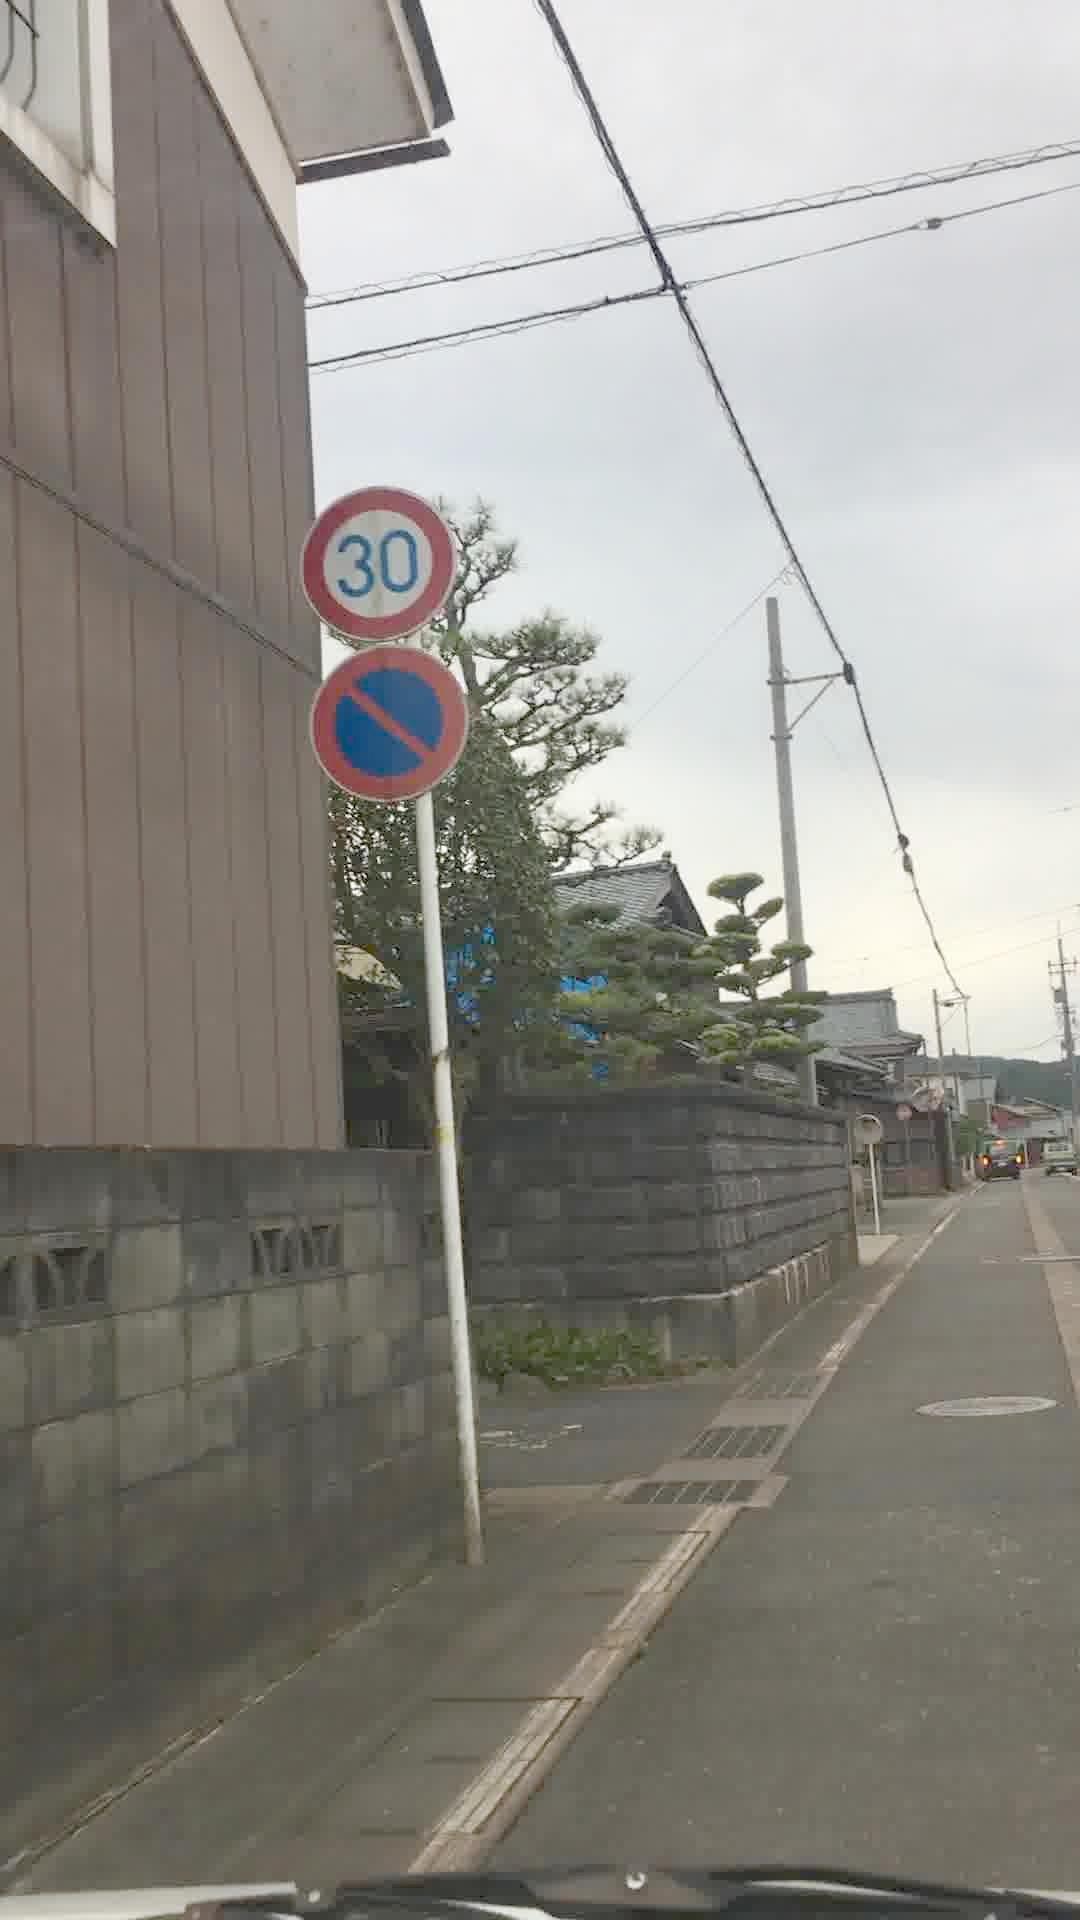Prohibition_sign: (318, 659, 473, 814)
Speed_sign: (280, 487, 488, 665)
